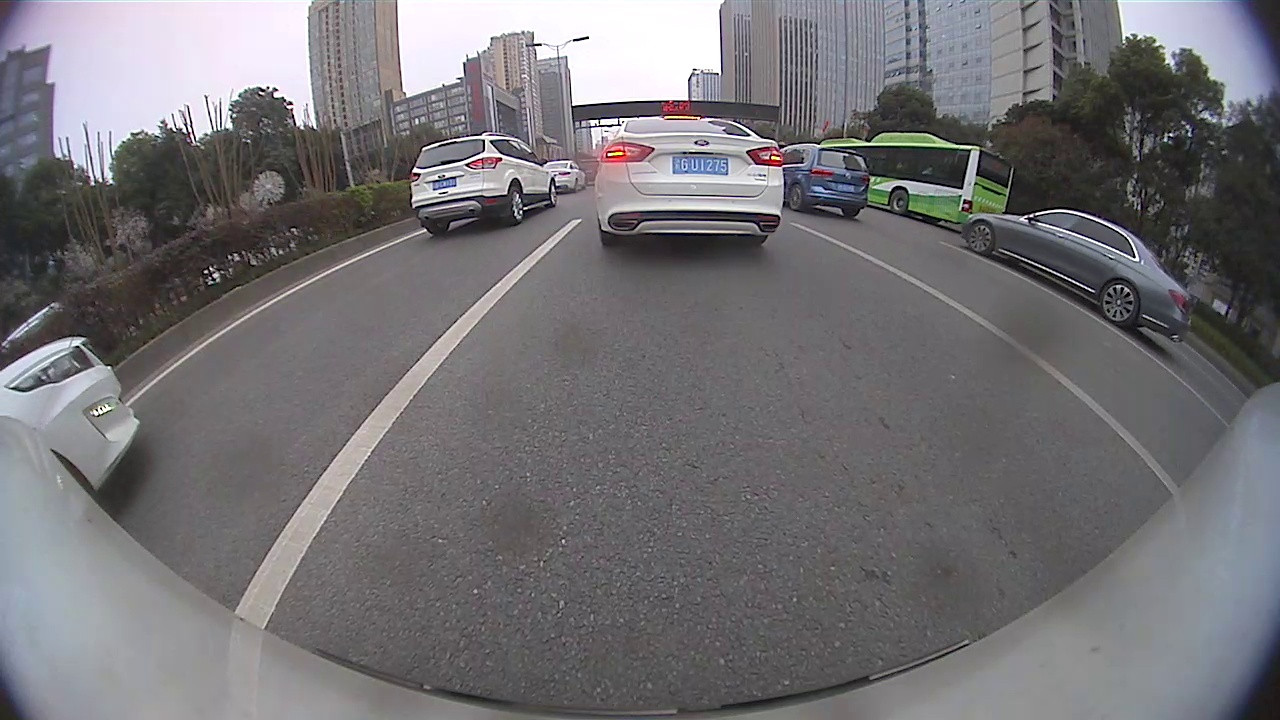bus: (822, 132, 1015, 225)
car: (962, 209, 1192, 344), (594, 114, 784, 247), (1, 335, 141, 496), (409, 130, 558, 237), (781, 142, 870, 219), (542, 160, 587, 193)
front: (965, 220, 999, 256), (548, 177, 562, 206)
rear: (1098, 281, 1139, 326), (507, 184, 528, 226), (888, 186, 912, 219), (784, 181, 806, 213)
